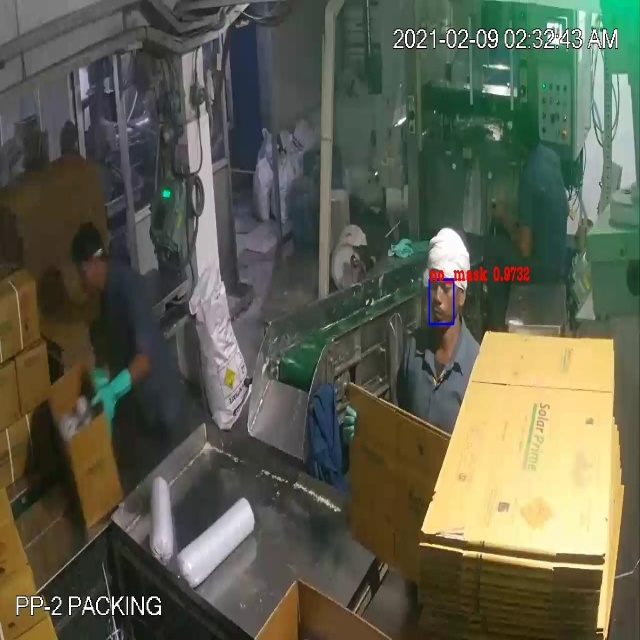Guantes: (83, 356, 140, 437)
Sin_guantes: (487, 186, 536, 264)
